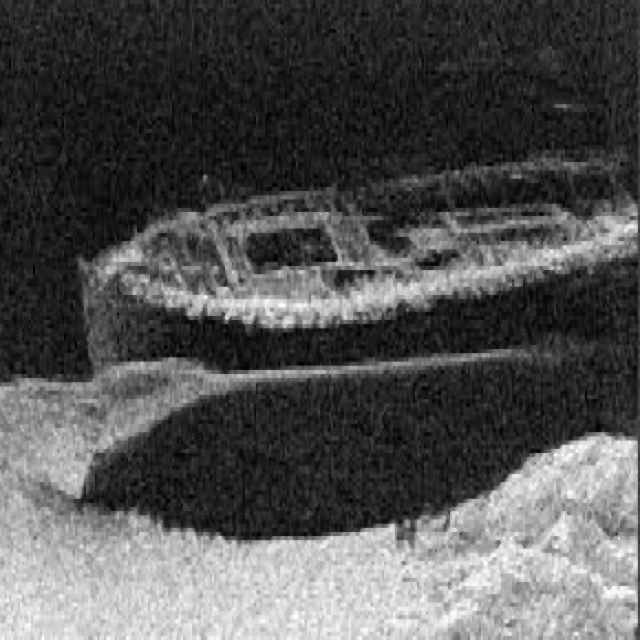Ship: (59, 128, 640, 540)
